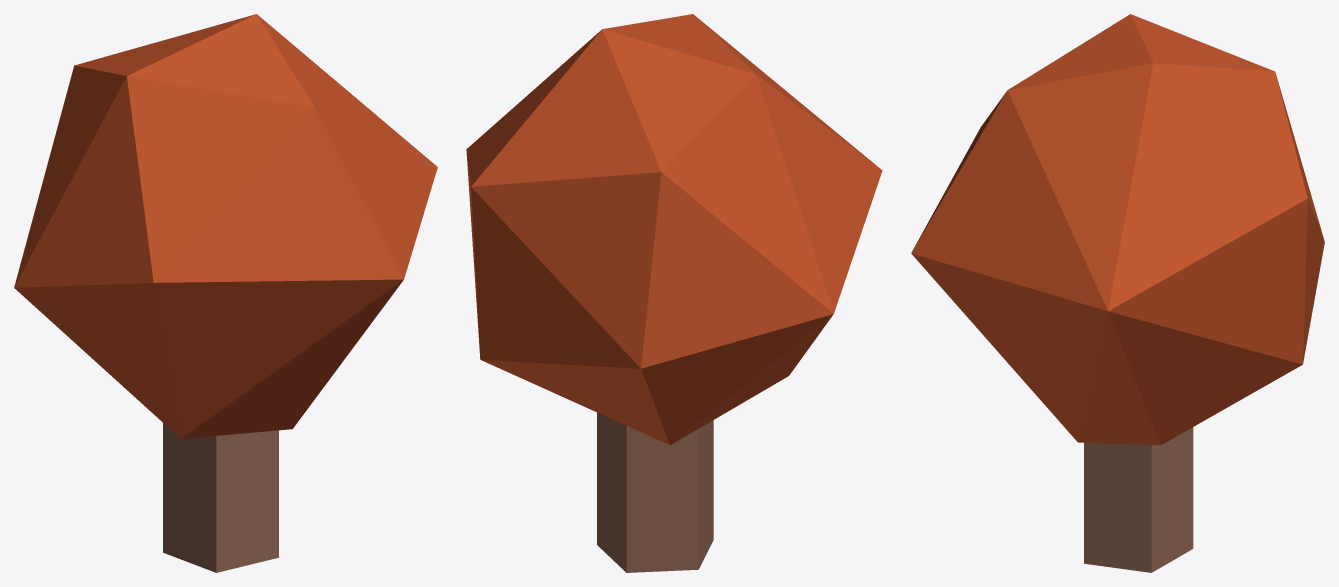
The model's file is world_4_brush_1.dae.
The picture shows the model from 3 angles, left to right: view 1: azimuth 30°, elevation 25°; view 2: azimuth 150°, elevation 25°; view 3: azimuth 270°, elevation 25°; orthographic projection. The views are drawn at different scales.
Visible parts, largest first — view 1: Sphere, Cylinder; view 2: Sphere, Cylinder; view 3: Sphere, Cylinder.
Part boxes in pixels (x1,y1,x2,y2): Sphere: [14, 14, 437, 438]; Cylinder: [163, 423, 278, 572]; Sphere: [466, 14, 882, 445]; Cylinder: [597, 412, 713, 572]; Sphere: [911, 14, 1324, 445]; Cylinder: [1084, 427, 1193, 572].
Size of the model in its own units: 0.238 by 0.2196 by 0.2967.
